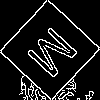M: (25, 25, 87, 87)
